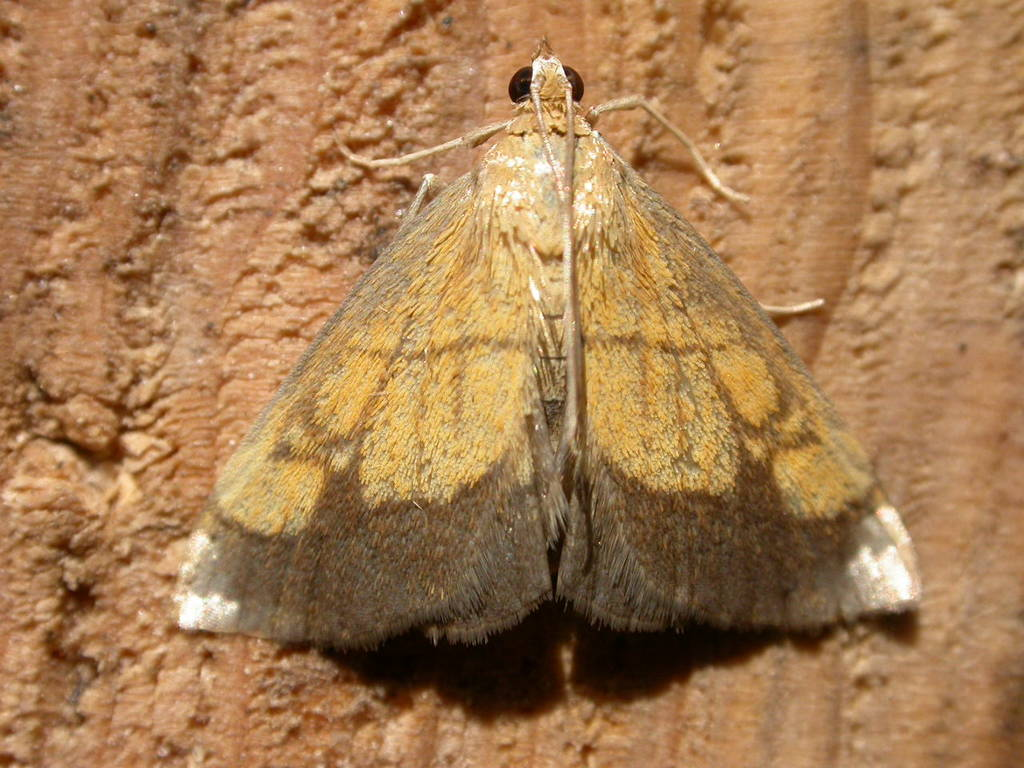Butterfly: (185, 62, 949, 665)
